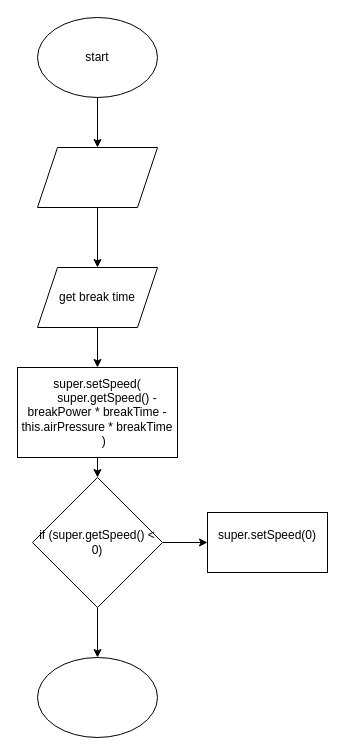
Some shapes in this 345 by 755 pixel diagram are drawn without their labels. Each missing label, with the centre of its shape:
"get break pow" belongs at [97,177].
"stop" belongs at [97,697].
